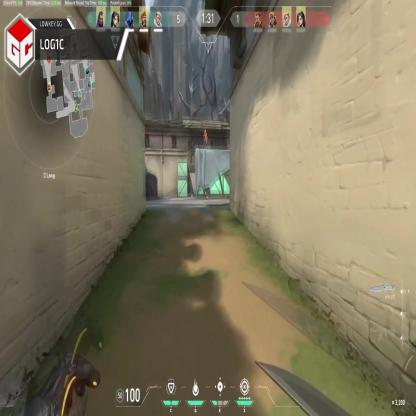enemy: (203, 130, 208, 148)
enemy_head: (204, 130, 207, 134)
